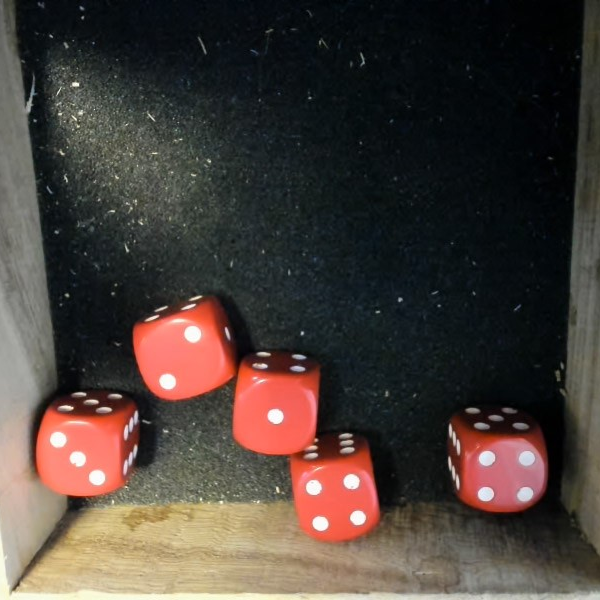red_die_pip1: (229, 349, 323, 453)
red_die_pip2: (123, 285, 243, 411)
red_die_pip3: (35, 391, 141, 500)
red_die_pip4: (280, 430, 381, 549), (445, 404, 543, 511)
